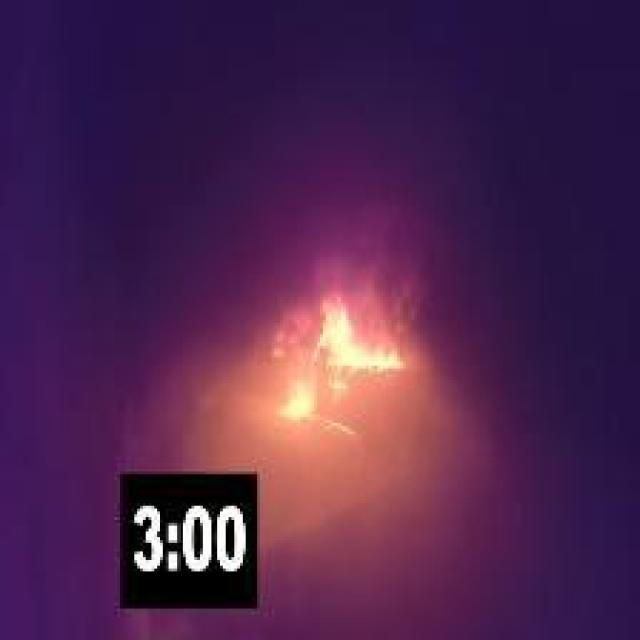fire: (270, 269, 404, 431)
